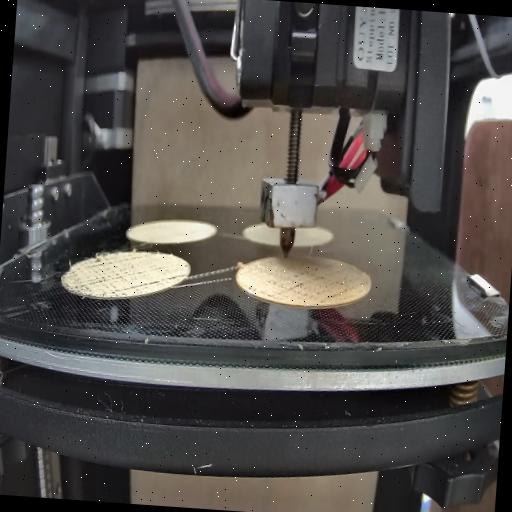under_extrusion: (243, 268, 367, 306), (70, 254, 164, 296), (166, 266, 189, 284)
